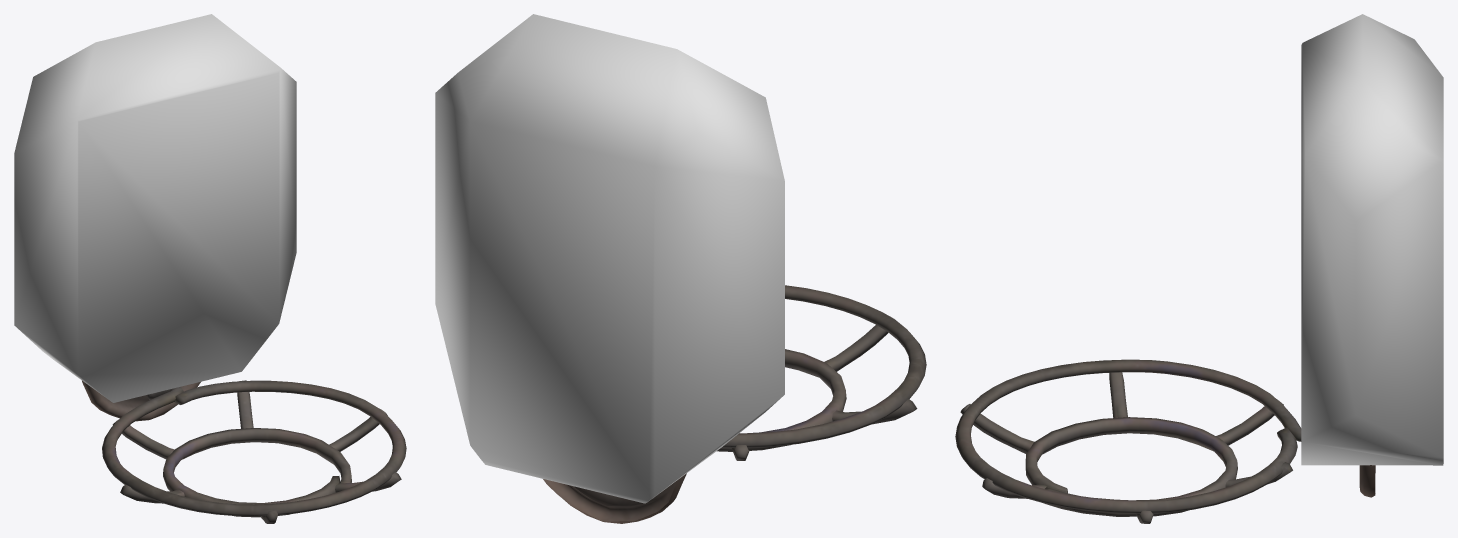
File: SM_OilLamp_Holder.fbx
The picture shows the model from 3 angles, left to right: view 1: azimuth 30°, elevation 25°; view 2: azimuth 150°, elevation 25°; view 3: azimuth 270°, elevation 25°; orthographic projection. The views are drawn at different scales.
Visible parts, largest first — view 1: SM_OilLamp_Holder_ConvexHulls, SM_OilLamp_Holder; view 2: SM_OilLamp_Holder_ConvexHulls, SM_OilLamp_Holder; view 3: SM_OilLamp_Holder_ConvexHulls, SM_OilLamp_Holder.
Part boxes in pixels (x1,y1,x2,y2): SM_OilLamp_Holder_ConvexHulls: (14,14,296,402); SM_OilLamp_Holder: (82,380,406,523); SM_OilLamp_Holder_ConvexHulls: (435,14,784,503); SM_OilLamp_Holder: (543,285,926,523); SM_OilLamp_Holder_ConvexHulls: (1301,14,1443,465); SM_OilLamp_Holder: (955,359,1375,523).
Size of the model in its own units: 0.2797 by 0.3716 by 0.3683.
